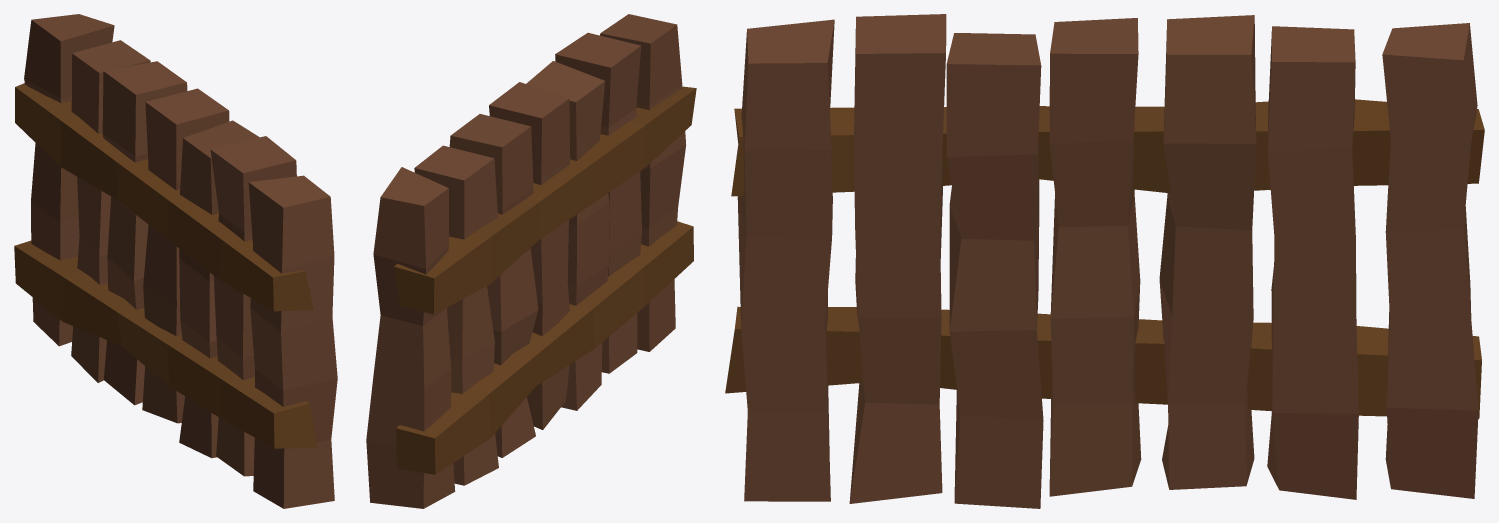
Rendered from WoodFence.fbx.
3 renders of one model, left to right at view 1: azimuth 30°, elevation 25°; view 2: azimuth 150°, elevation 25°; view 3: azimuth 270°, elevation 25°, orthographic. The views are drawn at different scales.
Parts seen in each view (by area): view 1: WoodFence; view 2: WoodFence; view 3: WoodFence.
Boxes of the visible parts, left/top/right/bottom form: WoodFence: left=14, top=14, right=337, bottom=508; WoodFence: left=366, top=14, right=696, bottom=508; WoodFence: left=725, top=14, right=1484, bottom=508.
Size of the model in its own units: 48.02 by 198 by 299.
